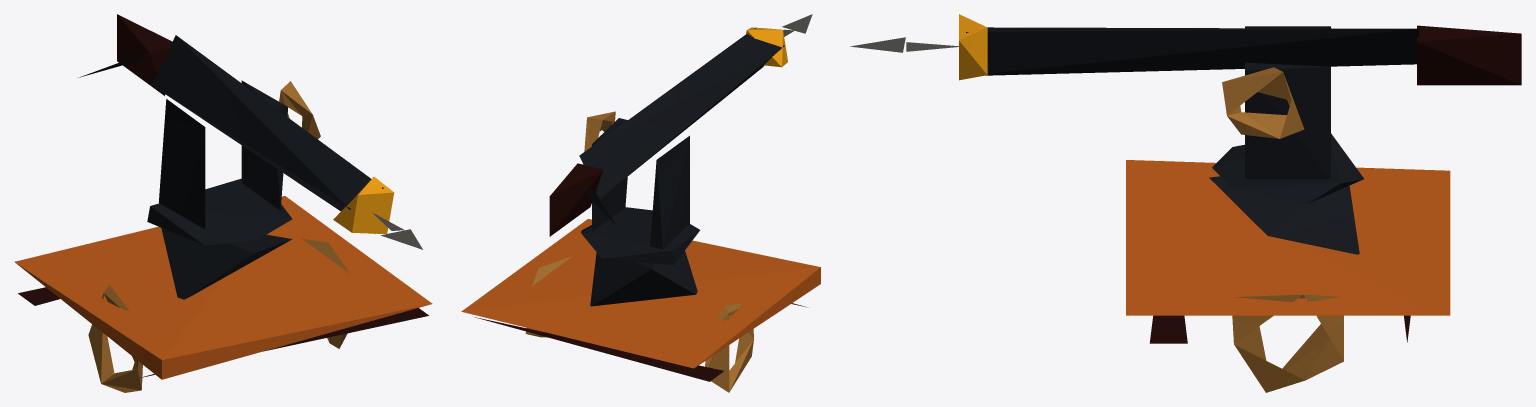
Rendered from tb_upg_harpoon_turret.three-web-toon.lod25.glb.
3 renders of one model, left to right at view 1: azimuth 30°, elevation 25°; view 2: azimuth 150°, elevation 25°; view 3: azimuth 270°, elevation 25°, orthographic. The views are drawn at different scales.
Visible parts, largest first — view 1: tb_upg_harpoon_turret_mesh_lod, harpoon_mount_mesh_lod; view 2: tb_upg_harpoon_turret_mesh_lod, harpoon_mount_mesh_lod; view 3: tb_upg_harpoon_turret_mesh_lod, harpoon_mount_mesh_lod.
Boxes of the visible parts, left/top/right/bottom form: tb_upg_harpoon_turret_mesh_lod: left=14, top=196, right=432, bottom=392; harpoon_mount_mesh_lod: left=78, top=14, right=422, bottom=249; tb_upg_harpoon_turret_mesh_lod: left=461, top=219, right=820, bottom=392; harpoon_mount_mesh_lod: left=549, top=14, right=812, bottom=264; tb_upg_harpoon_turret_mesh_lod: left=1126, top=160, right=1450, bottom=392; harpoon_mount_mesh_lod: left=850, top=14, right=1521, bottom=204.
Size of the model in its own units: 0.76 by 0.7314 by 1.41.
